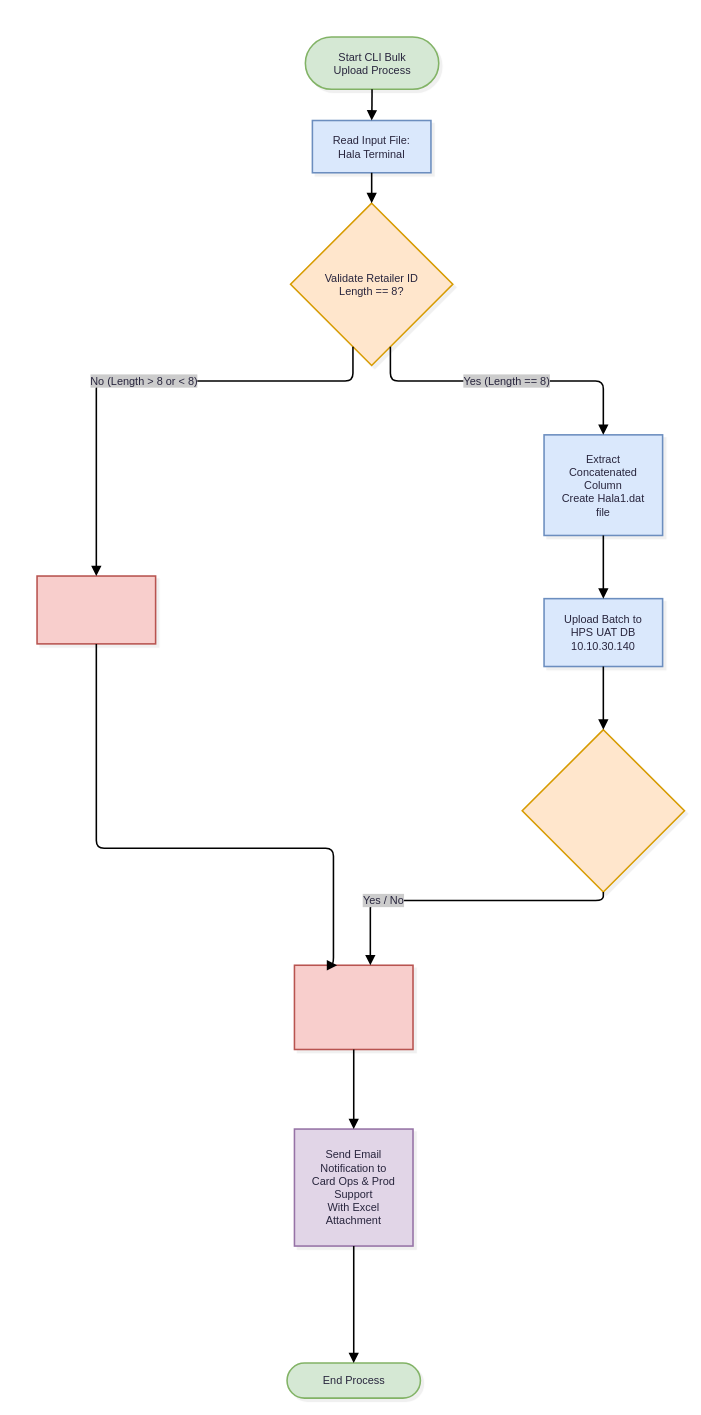
Some shapes in this 701 by 1415 pixel diagram are drawn without their labels. The shapes that lost their labels are listed below. From the top down, each one's centre as x and y in pixels, then its label:
At pixel 97 611: "Log Record to 'Failed Records' list".
At pixel 604 812: "Check Batch Success or Failure?".
At pixel 355 1008: "Generate Excel File with Failed Records & Status".
